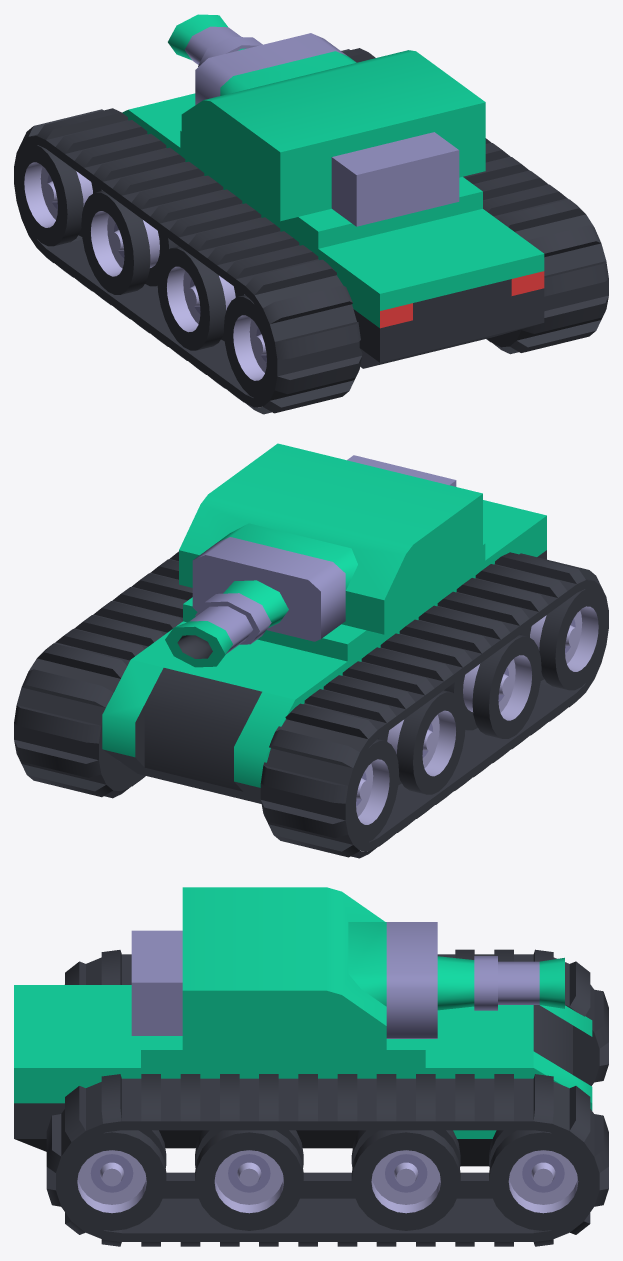
File: tank.glb
The picture shows the model from 3 angles, top to bottom: view 1: azimuth 30°, elevation 25°; view 2: azimuth 150°, elevation 25°; view 3: azimuth 270°, elevation 25°; orthographic projection. The views are drawn at different scales.
Parts seen in each view (by area): view 1: track_wideSmoothSide (×3), tank_turretBlock, body_backSolid, wheel_tank (×4), track_wideSmoothCenter, tank_turretBarrelLarge, body_standard, body_frontTank; view 2: track_wideSmoothSide (×3), tank_turretBlock, body_frontTank, wheel_tank (×4), tank_turretBarrelLarge, track_wideSmoothCenter (×2), body_standard, body_backSolid; view 3: tank_turretBlock, track_wideSmoothSide (×4), wheel_tank (×4), track_wideSmoothCenter, body_backSolid, body_frontTank, tank_turretBarrelLarge, body_standard.
Part boxes in pixels (bbox=[...]): track_wideSmoothSide (×3): bbox=[14, 108, 608, 414]; tank_turretBlock: bbox=[181, 50, 485, 226]; body_backSolid: bbox=[318, 209, 544, 368]; wheel_tank (×4): bbox=[18, 145, 275, 399]; track_wideSmoothCenter: bbox=[98, 151, 269, 368]; tank_turretBarrelLarge: bbox=[168, 14, 346, 104]; body_standard: bbox=[180, 130, 482, 255]; body_frontTank: bbox=[122, 93, 195, 154]; track_wideSmoothSide (×3): bbox=[14, 552, 608, 858]; tank_turretBlock: bbox=[179, 443, 482, 634]; body_frontTank: bbox=[102, 621, 347, 803]; wheel_tank (×4): bbox=[347, 588, 607, 843]; tank_turretBarrelLarge: bbox=[165, 537, 345, 667]; track_wideSmoothCenter (×2): bbox=[106, 551, 524, 813]; body_standard: bbox=[183, 543, 485, 668]; body_backSolid: bbox=[480, 500, 546, 570]; tank_turretBlock: bbox=[131, 887, 386, 1061]; track_wideSmoothSide (×4): bbox=[46, 949, 608, 1246]; wheel_tank (×4): bbox=[62, 1130, 593, 1230]; track_wideSmoothCenter: bbox=[229, 1074, 425, 1246]; body_backSolid: bbox=[14, 985, 149, 1151]; body_frontTank: bbox=[425, 1005, 592, 1166]; tank_turretBarrelLarge: bbox=[386, 922, 564, 1038]; body_standard: bbox=[141, 1036, 425, 1148].
Bounding box in the file's own units: 2.02 × 1.29 × 3.03.
